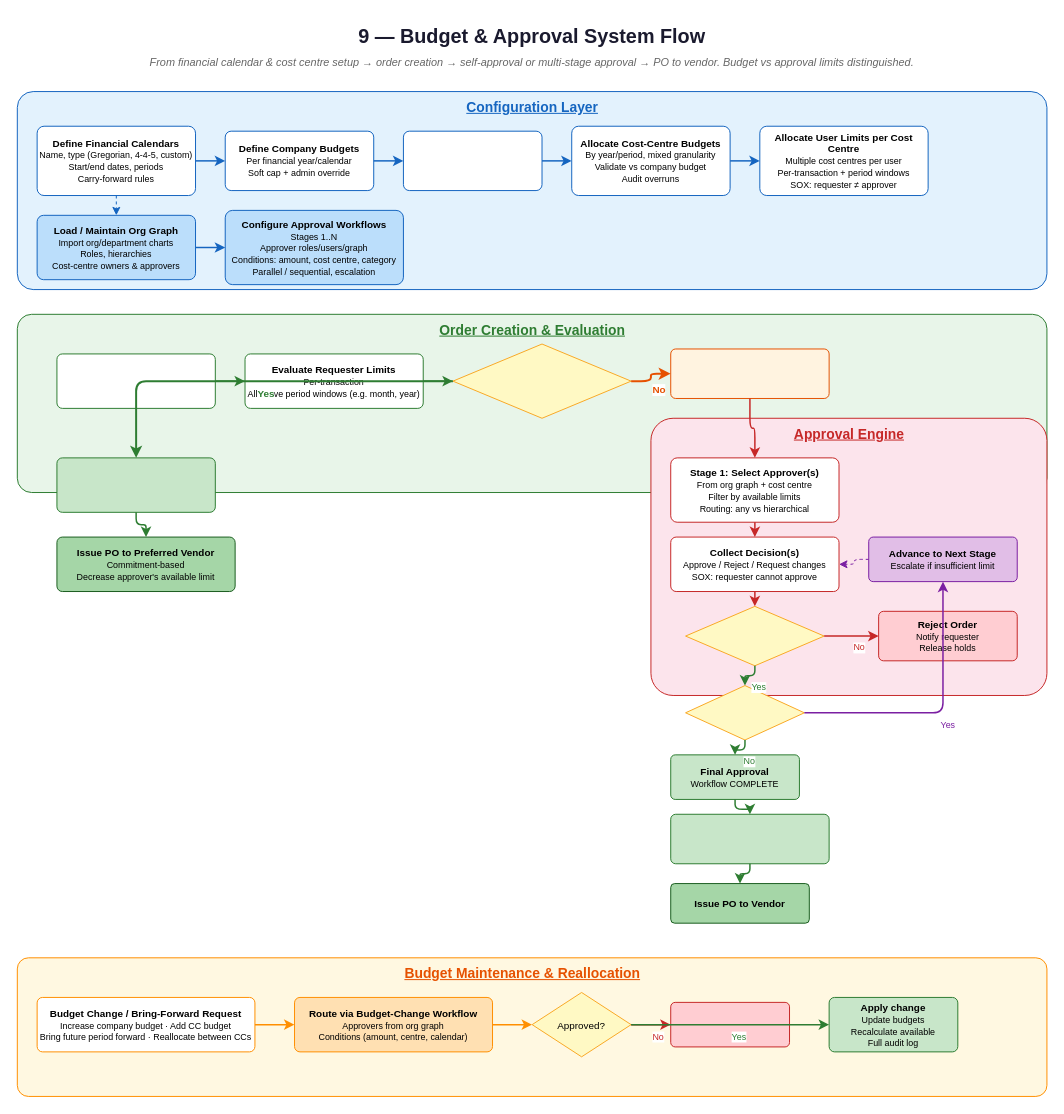
Some shapes in this 1064 by 1114 pixel diagram are drawn without their labels. Here are the shapes that lost their labels. From the top down, the box of each, then its label:
(402, 130, 542, 191): Define Cost Centres Name, code, GL mapping Active in 1+ years
(56, 353, 215, 408): User Creates Order Select cost centre, items, quantities Compute order value
(452, 343, 631, 418): Within self-approval limits AND cost-centre budget?
(670, 348, 829, 398): Create Approval Instance Link to order Determine workflow from rules
(56, 457, 215, 512): Auto-Approve Order Reserve cost-centre budget Reserve approver limit
(685, 605, 824, 666): Approved at Stage?
(685, 685, 804, 740): More stages required?
(670, 813, 829, 864): Reserve Budgets & Limits Decrease approver's limit Mark budget committed
(670, 1001, 790, 1047): Reject change Log audit trail
